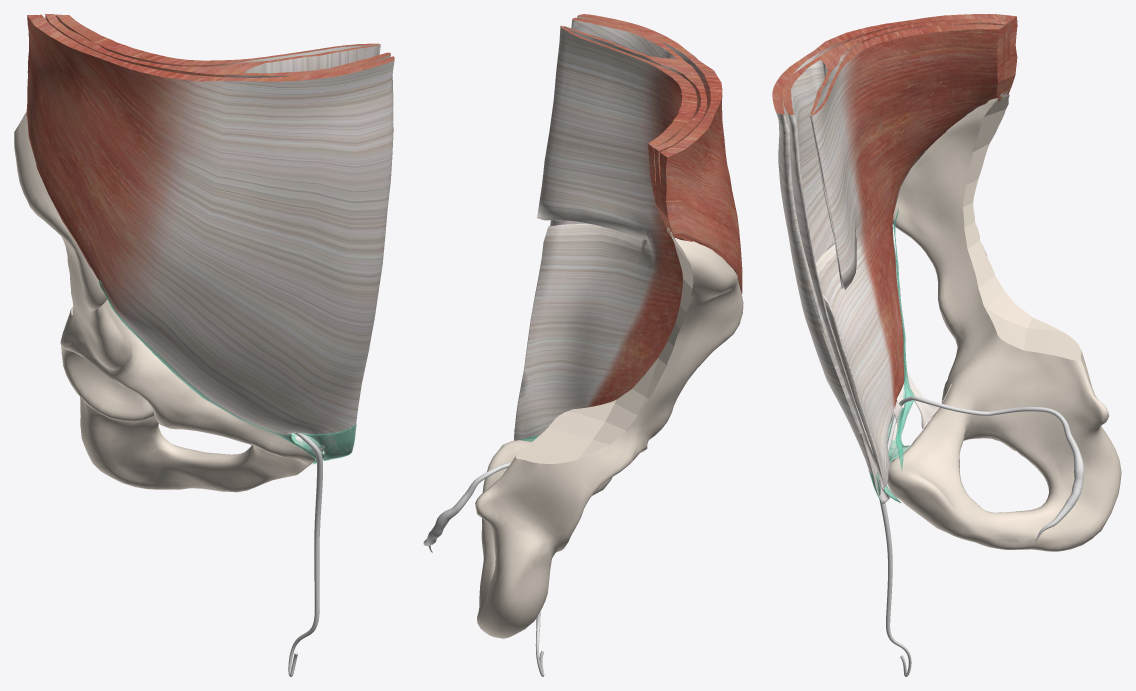
File: inguinal-canal.glb
3 views of the same model, side by side, from view 1: azimuth 30°, elevation 25°; view 2: azimuth 150°, elevation 25°; view 3: azimuth 270°, elevation 25° (orthographic). The views are drawn at different scales.
Visible parts, largest first — view 1: External abdominal oblique muscle.r, Hip bone.r, Internal abdominal oblique muscle.r, Transversus abdominis muscle.r, Ductus deferens.r, Medial crus of superficial inguinal ring overlay.r, Inguinal ligament overlay.r; view 2: Transversus abdominis muscle.r, Hip bone.r, External abdominal oblique muscle.r, Internal abdominal oblique muscle.r, Ductus deferens.r; view 3: Hip bone.r, Transversus abdominis muscle.r, Internal abdominal oblique muscle.r, External abdominal oblique muscle.r, Ductus deferens.r, Iliopubic tract overlay.r, Iliopectineal arch.r.
Part boxes in pixels (<box>): External abdominal oblique muscle.r: <box>26,14,394,463</box>; Hip bone.r: <box>14,112,323,492</box>; Internal abdominal oblique muscle.r: <box>45,14,390,77</box>; Transversus abdominis muscle.r: <box>55,14,380,66</box>; Ductus deferens.r: <box>288,433,322,676</box>; Medial crus of superficial inguinal ring overlay.r: <box>300,424,356,460</box>; Inguinal ligament overlay.r: <box>98,280,290,438</box>; Transversus abdominis muscle.r: <box>514,25,697,440</box>; Hip bone.r: <box>475,227,743,638</box>; External abdominal oblique muscle.r: <box>514,14,742,440</box>; Internal abdominal oblique muscle.r: <box>550,17,706,232</box>; Ductus deferens.r: <box>423,422,552,676</box>; Hip bone.r: <box>887,91,1121,551</box>; Transversus abdominis muscle.r: <box>810,24,1005,487</box>; Internal abdominal oblique muscle.r: <box>783,19,1010,488</box>; External abdominal oblique muscle.r: <box>772,14,1017,503</box>; Ductus deferens.r: <box>879,396,1084,676</box>; Iliopubic tract overlay.r: <box>893,208,914,469</box>; Iliopectineal arch.r: <box>906,371,938,428</box>.
Bounding box in the file's own units: 0.1345 × 0.3052 × 0.1676.
4 materials, 2 textured.
